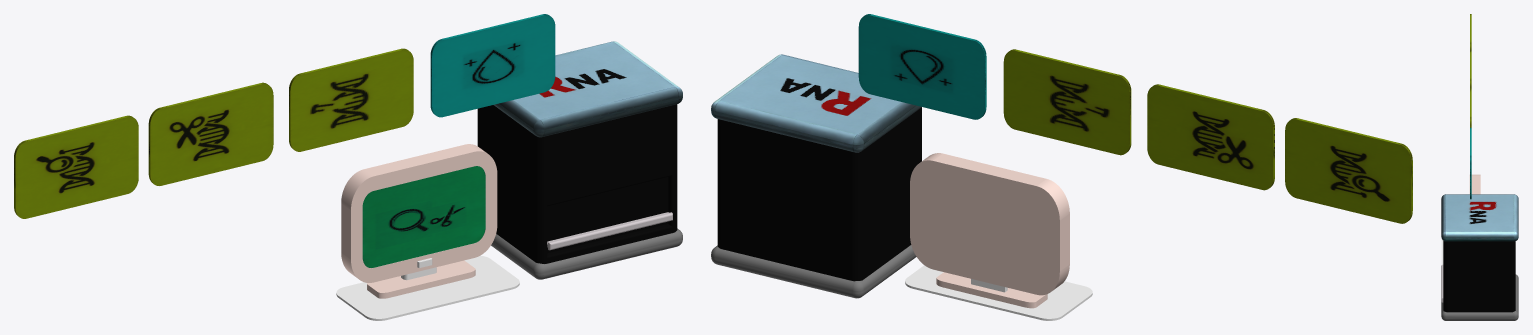
File: 误删源文件.fbx
3 views of the same model, side by side, from view 1: azimuth 30°, elevation 25°; view 2: azimuth 150°, elevation 25°; view 3: azimuth 270°, elevation 25° (orthographic). The views are drawn at different scales.
Parts seen in each view (by area): view 1: 物件_224, 物件_255.004, 物件_255.002, 物件_255.003, 物件_255.001, 物件_226, 物件_249, 物件_250, 物件_223, 物件_246, 物件_225, 物件_245 (+1 smaller); view 2: 物件_224, 物件_250, 物件_226, 物件_255.003, 物件_255.004, 物件_255.001, 物件_255.002, 物件_225, 物件_246, 物件_245; view 3: 物件_224, 物件_226, 物件_225, 物件_250, 物件_255.004, 物件_222, 物件_255.002, 物件_255.003, 物件_246, 物件_255.001.
Part boxes in pixels (left/top/right/bottom): 物件_224: left=477, top=104, right=677, bottom=263; 物件_255.004: left=430, top=14, right=555, bottom=117; 物件_255.002: left=148, top=82, right=273, bottom=185; 物件_255.003: left=289, top=48, right=413, bottom=151; 物件_255.001: left=14, top=115, right=138, bottom=218; 物件_226: left=494, top=41, right=682, bottom=137; 物件_249: left=362, top=166, right=485, bottom=267; 物件_250: left=341, top=144, right=497, bottom=282; 物件_223: left=547, top=177, right=668, bottom=253; 物件_246: left=336, top=255, right=519, bottom=320; 物件_225: left=491, top=228, right=682, bottom=279; 物件_245: left=367, top=260, right=475, bottom=298; 物件_224: left=717, top=107, right=921, bottom=281; 物件_250: left=910, top=153, right=1069, bottom=295; 物件_226: left=711, top=54, right=921, bottom=152; 物件_255.003: left=1003, top=49, right=1131, bottom=155; 物件_255.004: left=858, top=14, right=986, bottom=119; 物件_255.001: left=1285, top=118, right=1412, bottom=223; 物件_255.002: left=1147, top=84, right=1274, bottom=190; 物件_225: left=711, top=245, right=916, bottom=298; 物件_246: left=905, top=265, right=1092, bottom=320; 物件_245: left=936, top=272, right=1047, bottom=308; 物件_224: left=1443, top=241, right=1515, bottom=312; 物件_226: left=1441, top=194, right=1518, bottom=241; 物件_225: left=1441, top=274, right=1518, bottom=320; 物件_250: left=1469, top=174, right=1480, bottom=194; 物件_255.004: left=1470, top=127, right=1471, bottom=199; 物件_222: left=1441, top=264, right=1443, bottom=302; 物件_255.002: left=1470, top=50, right=1471, bottom=88; 物件_255.003: left=1470, top=89, right=1471, bottom=127; 物件_246: left=1441, top=239, right=1443, bottom=264; 物件_255.001: left=1470, top=14, right=1471, bottom=50.
Size of the model in its own units: 96.78 by 34.67 by 17.98.
